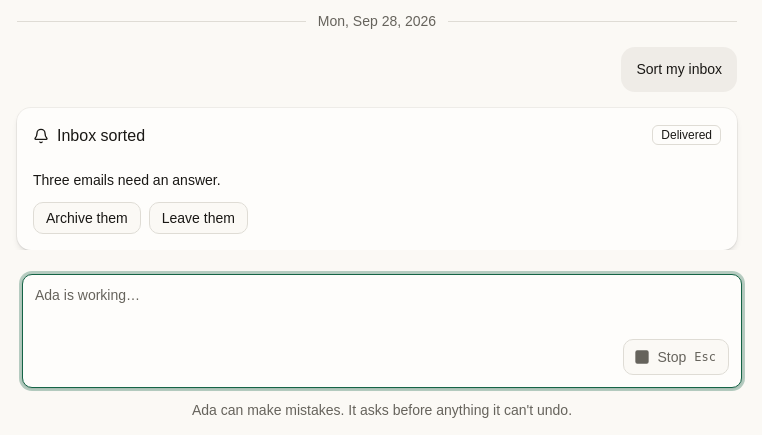
a thread's panel › a notification › answers an option through the hub, and shows it answering until the hub applies it
Expected: the text "Delivered" is shown, [652,125,721,145]
Click the button "Archive them": (87,218) [33,202,141,234]
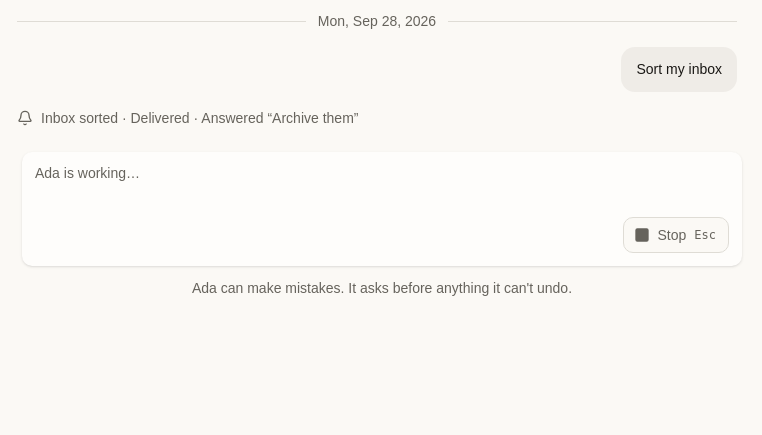
Expected: the button "Leave them" is gone
Expected: the text "Inbox sorted · Delivered · Answered “Archive them”" is shown, [41,108,358,128]
